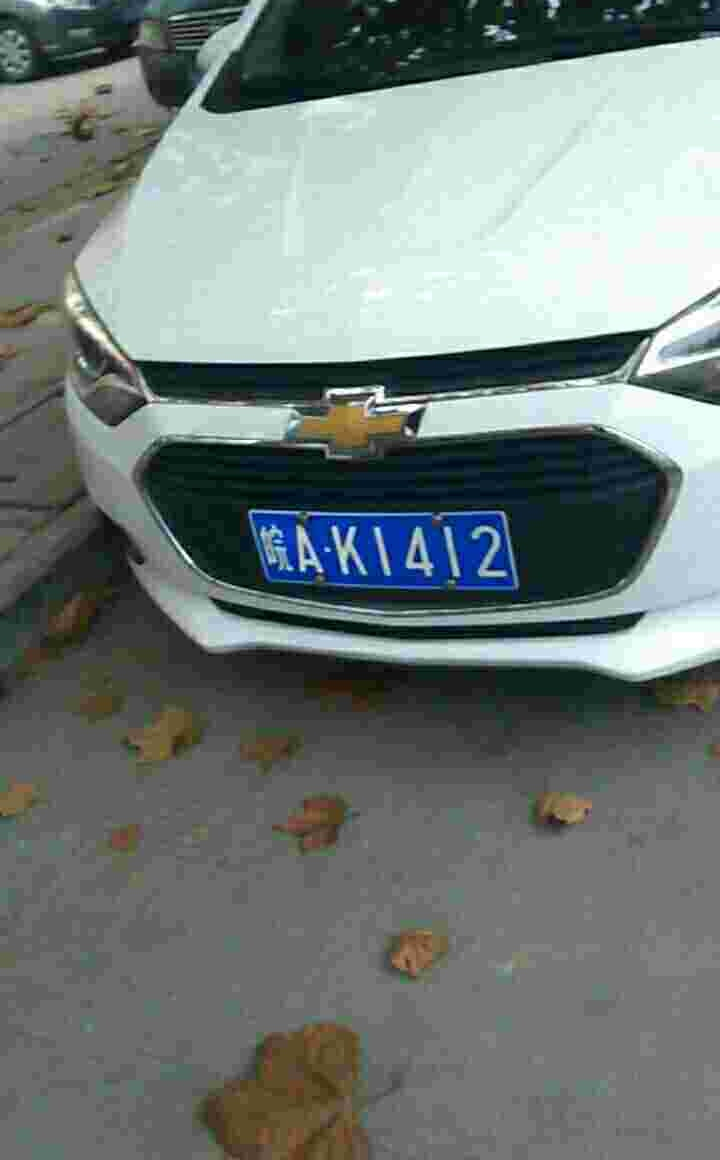license_plate: (243, 502, 526, 605)
